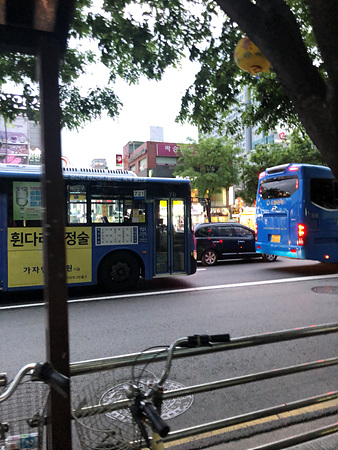entrance: (154, 195, 190, 272)
